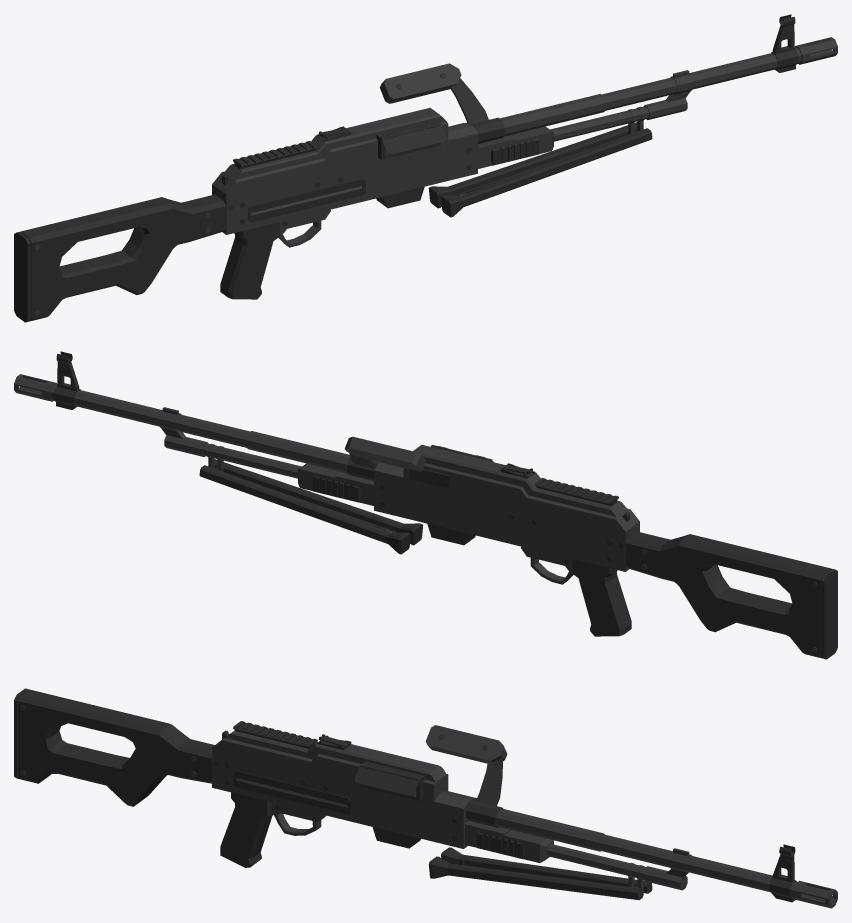
File: LMG3_02.fbx
The picture shows the model from 3 angles, top to bottom: view 1: azimuth 30°, elevation 25°; view 2: azimuth 150°, elevation 25°; view 3: azimuth 330°, elevation 25°; orthographic projection.
Visible parts, largest first — view 1: LMG3_02; view 2: LMG3_02; view 3: LMG3_02.
Part boxes in pixels (<box>): LMG3_02: <box>14,14,837,322</box>; LMG3_02: <box>14,351,837,659</box>; LMG3_02: <box>14,688,837,908</box>.
Bounding box in the file's own units: 1.31 × 0.2463 × 0.1301.
